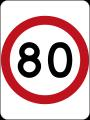Speed Limit -80-: (17, 40, 73, 80)
